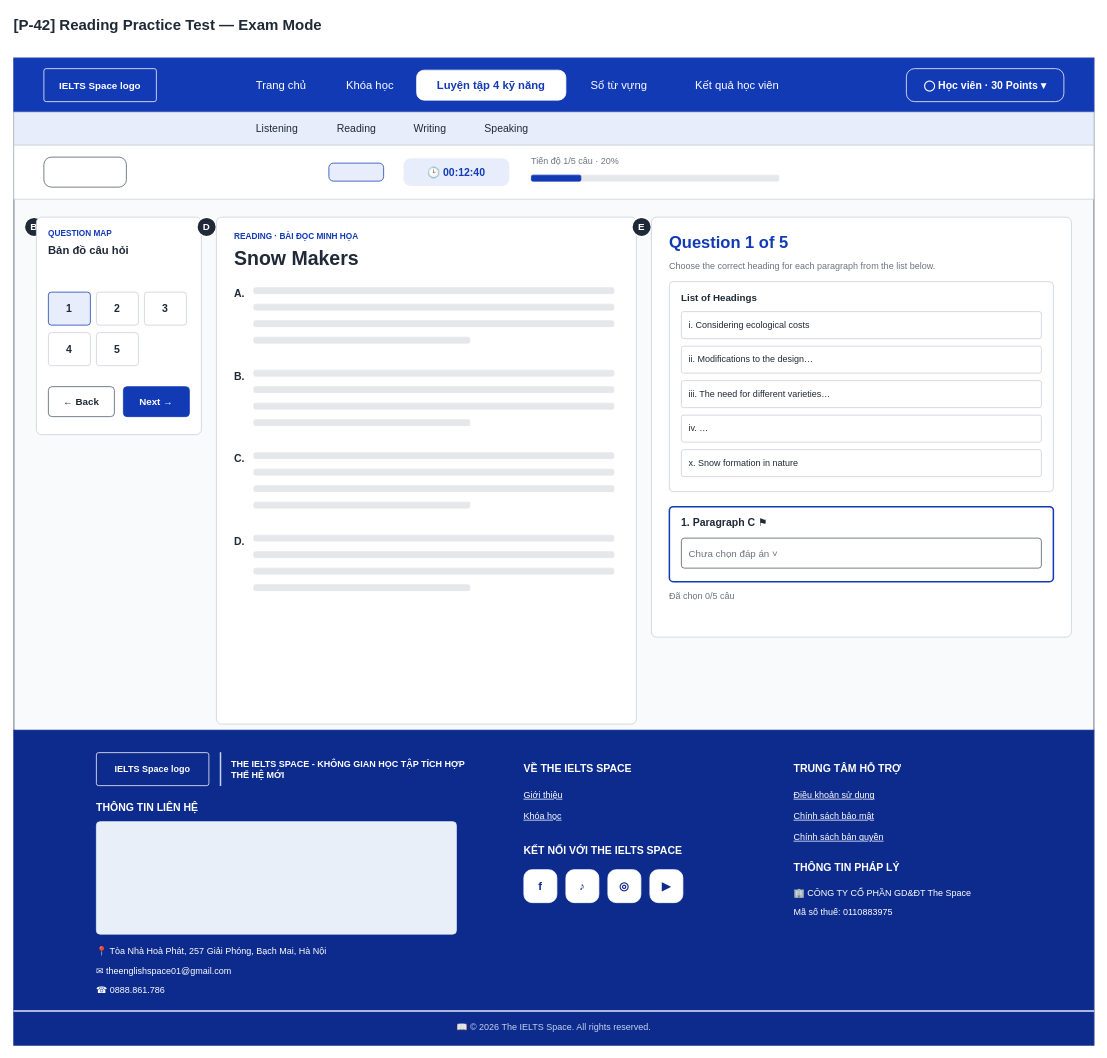
Some shapes in this 1107 by 1058 pixel diagram are drawn without their labels. Here are the shapes that lost their labels. From the top down, the centre of each, then its label:
At [84,171]: "← Thoát".
At [356,171]: "Thi thử".
At [276,877]: "📍 The IELTS Space Mở trong Maps ↗".
